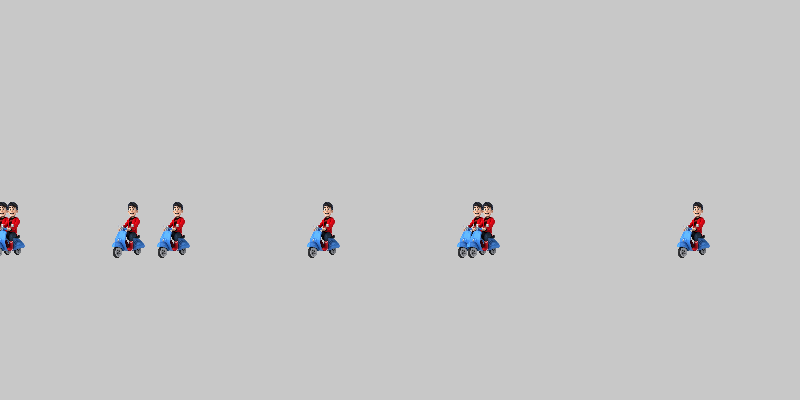no_helmet: (100, 200, 160, 260), (145, 200, 205, 260), (295, 200, 355, 260), (445, 200, 505, 260), (455, 200, 515, 260), (665, 200, 725, 260), (0, 200, 40, 260), (0, 200, 30, 260)
